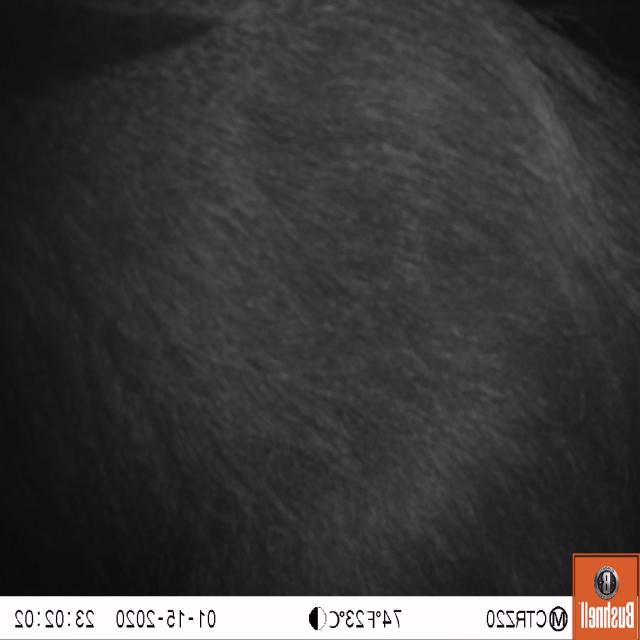Giant Anteater: (0, 3, 638, 590)
